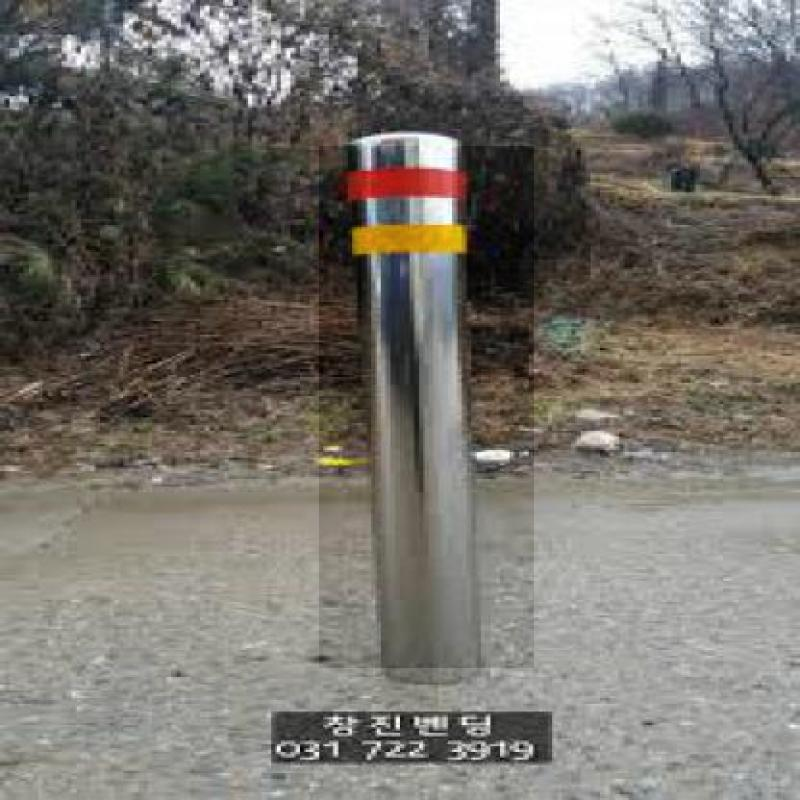bolard: (319, 146, 534, 668)
